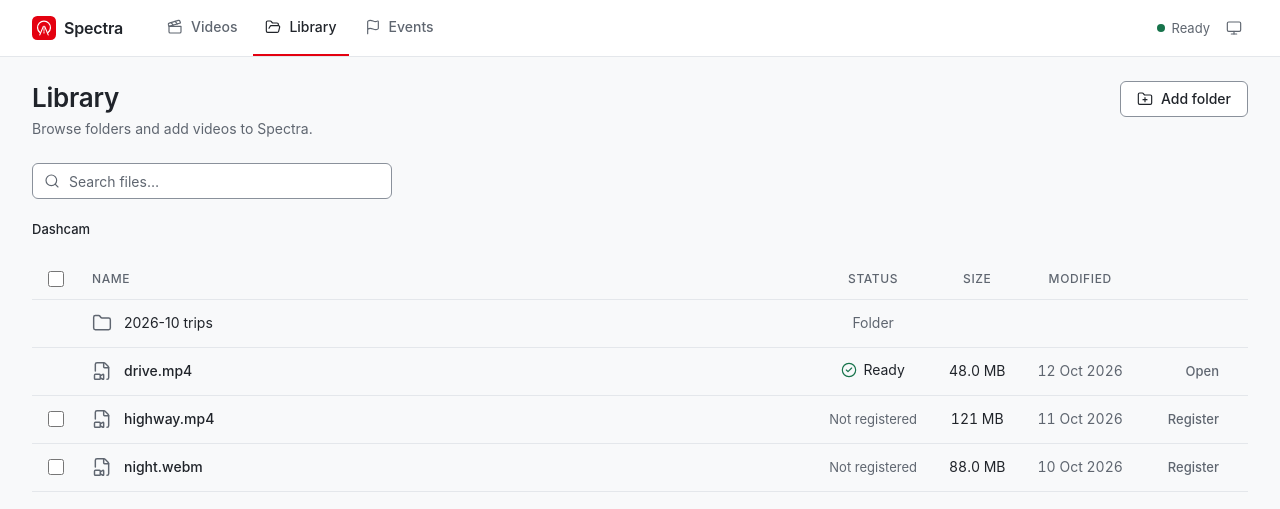
Test: library browsing › clears a search with no results without leaving the folder
This screenshot has width=1280, height=509.
Expected: the table named "Contents of Dashcam" is shown, top-left (32, 259), bottom-right (1248, 492)
Step 1. Type "zzz" into the search field named "Filter this folder" → (212, 181), box top-left (32, 163), bottom-right (392, 199)
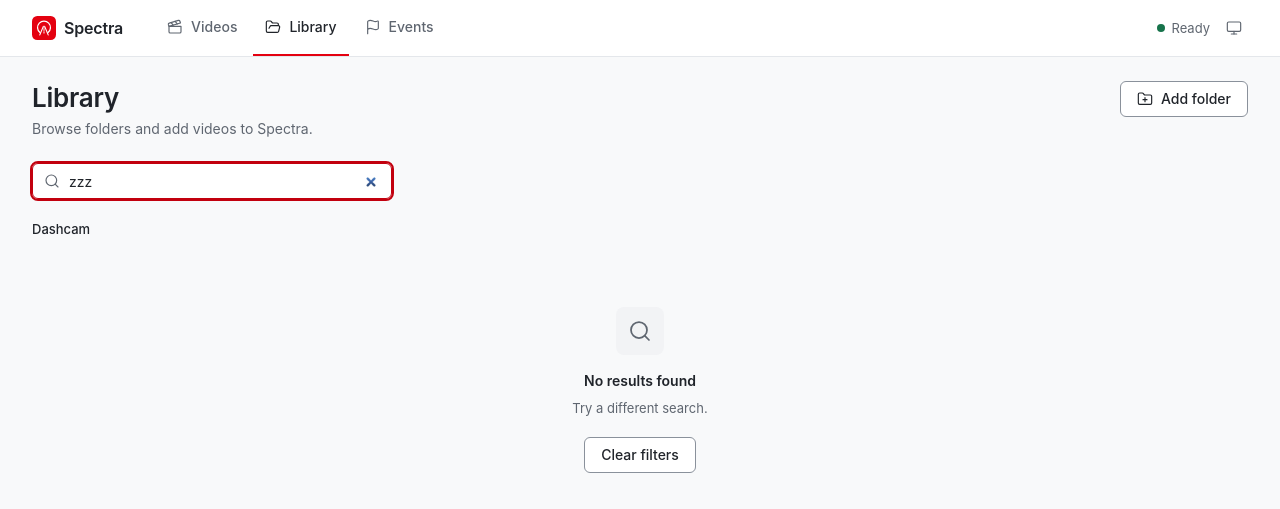
Expected: the heading "No results found" is shown, top-left (584, 371), bottom-right (696, 391)
Expected: the text "Try a different search." is shown, top-left (572, 399), bottom-right (708, 417)
Step 2. Click the button "Clear filters" → (640, 455), box top-left (584, 437), bottom-right (696, 473)
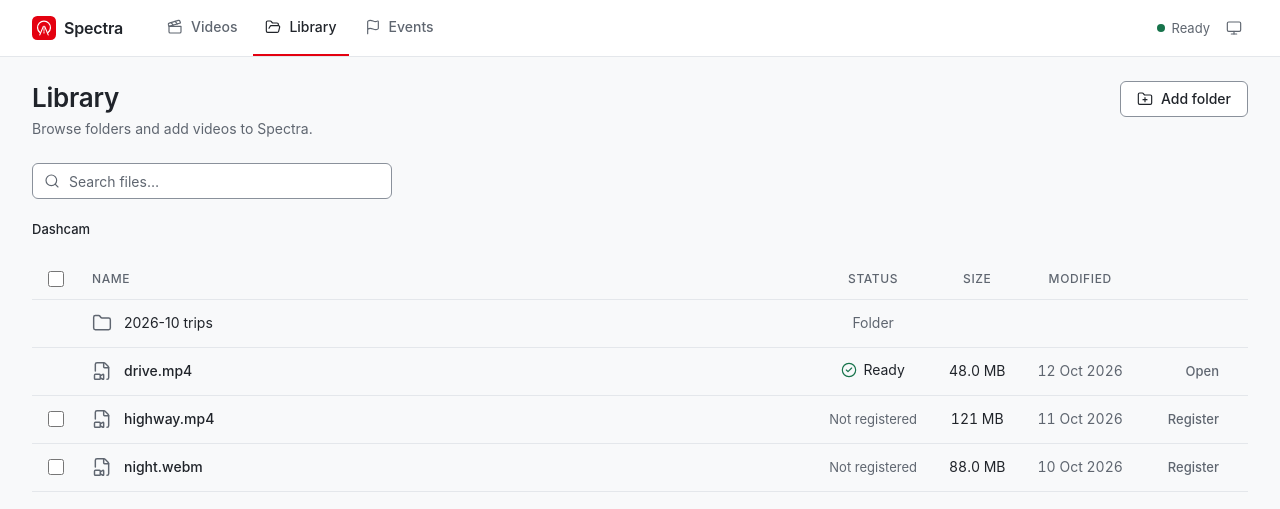
Expected: the search field named "Filter this folder" is empty, top-left (32, 163), bottom-right (392, 199)
Expected: the table named "Contents of Dashcam" is shown, top-left (32, 259), bottom-right (1248, 492)
